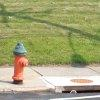a fire hydrant: (11, 41, 29, 81)
